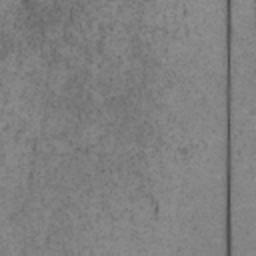Scratches: (224, 0, 234, 256)
